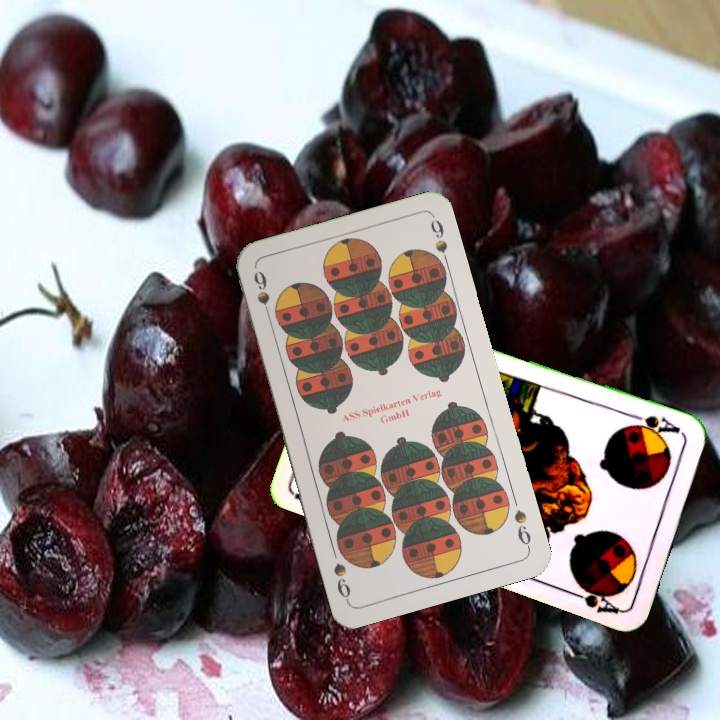S9: (249, 266, 274, 324), (510, 505, 534, 552)
SA: (627, 410, 687, 441)
